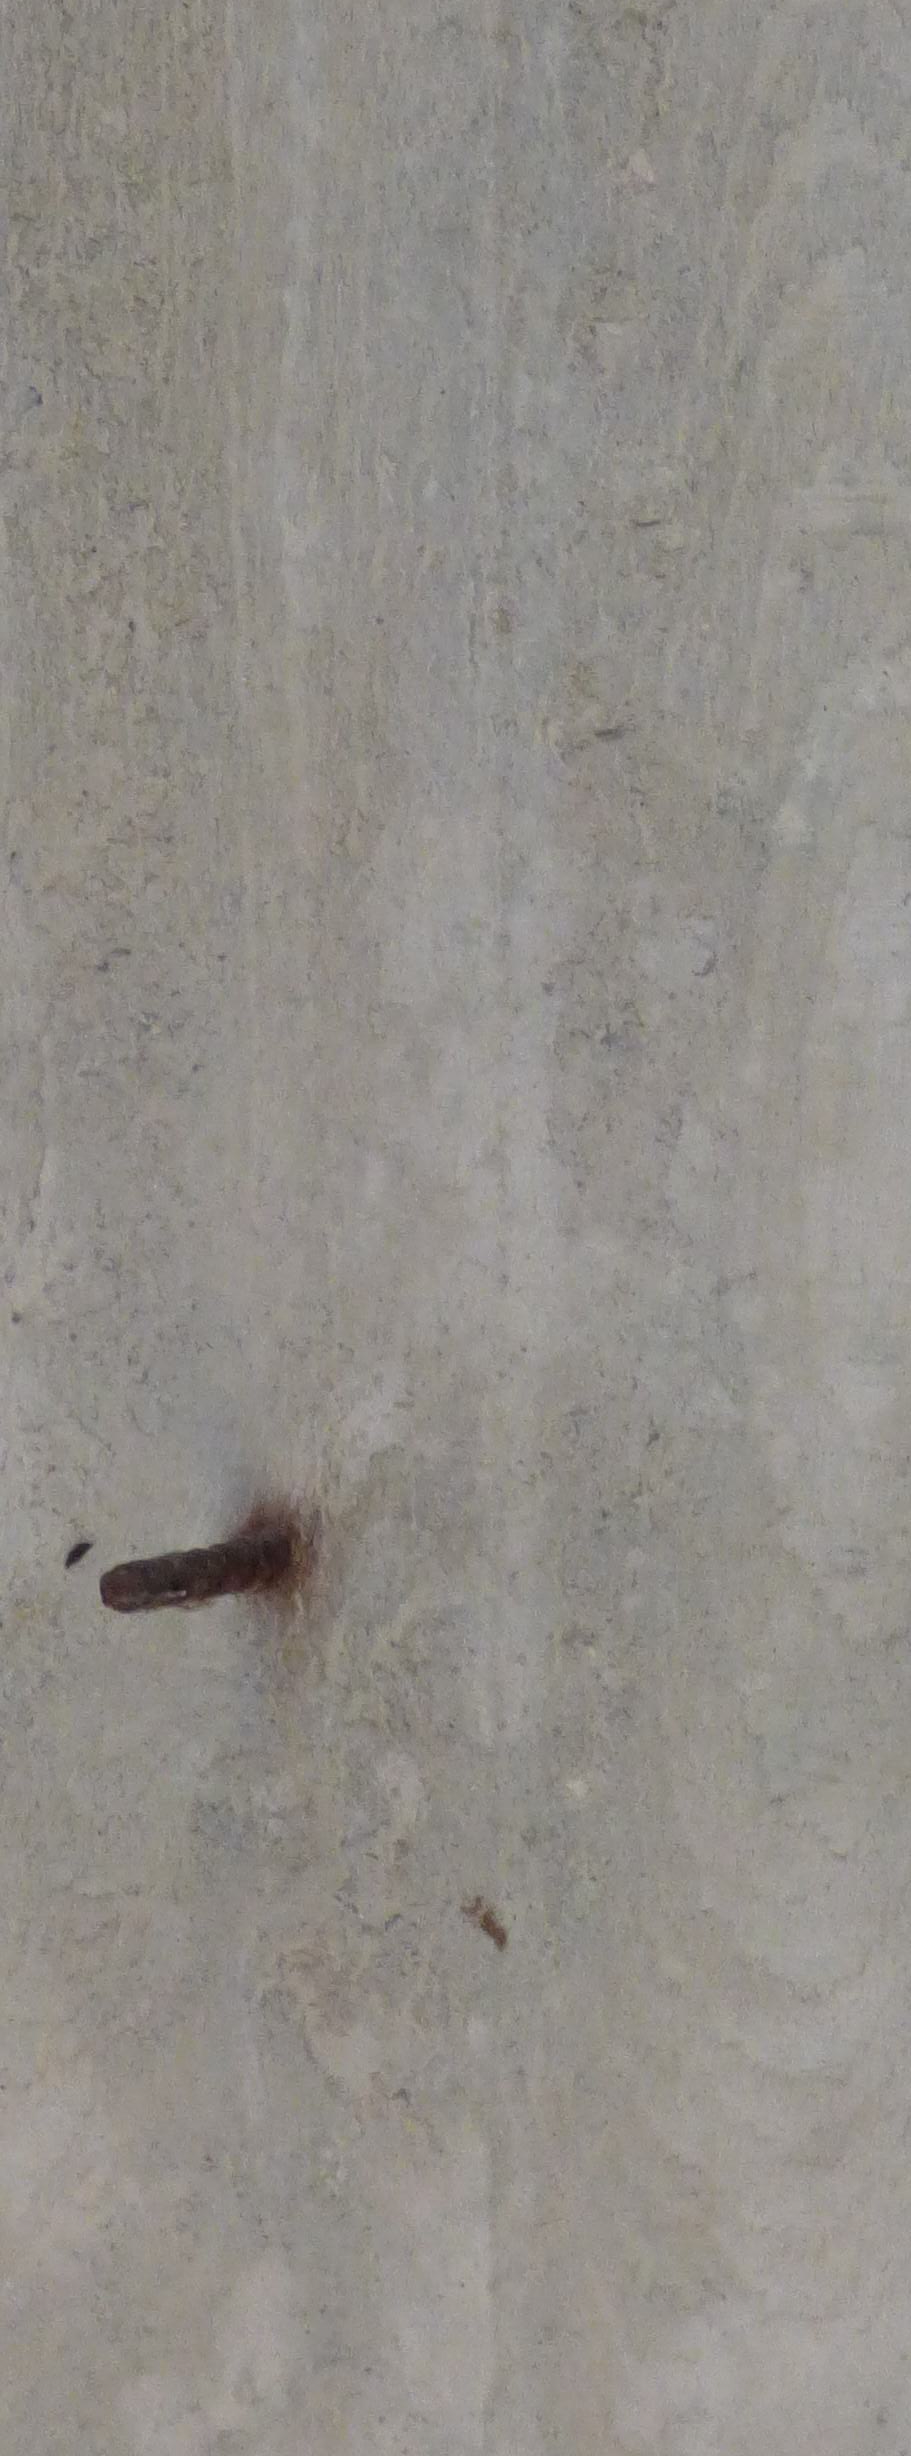Exposed reinforcement: (99, 1532, 290, 1615)
